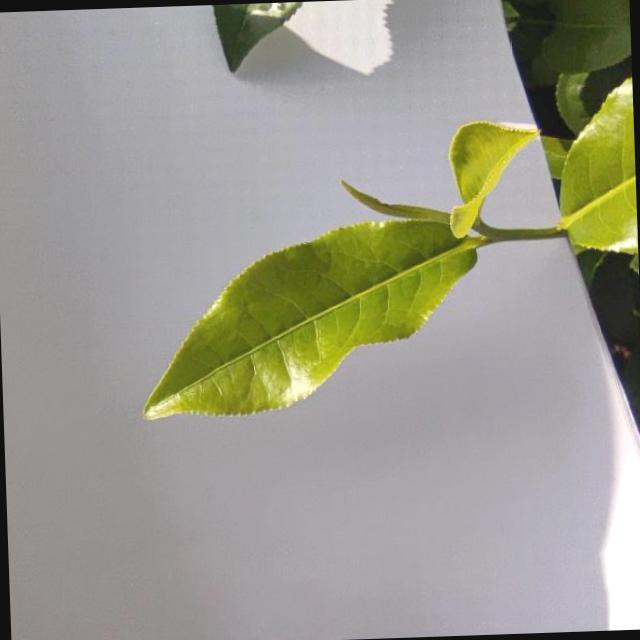Stem: (487, 228, 506, 241)
